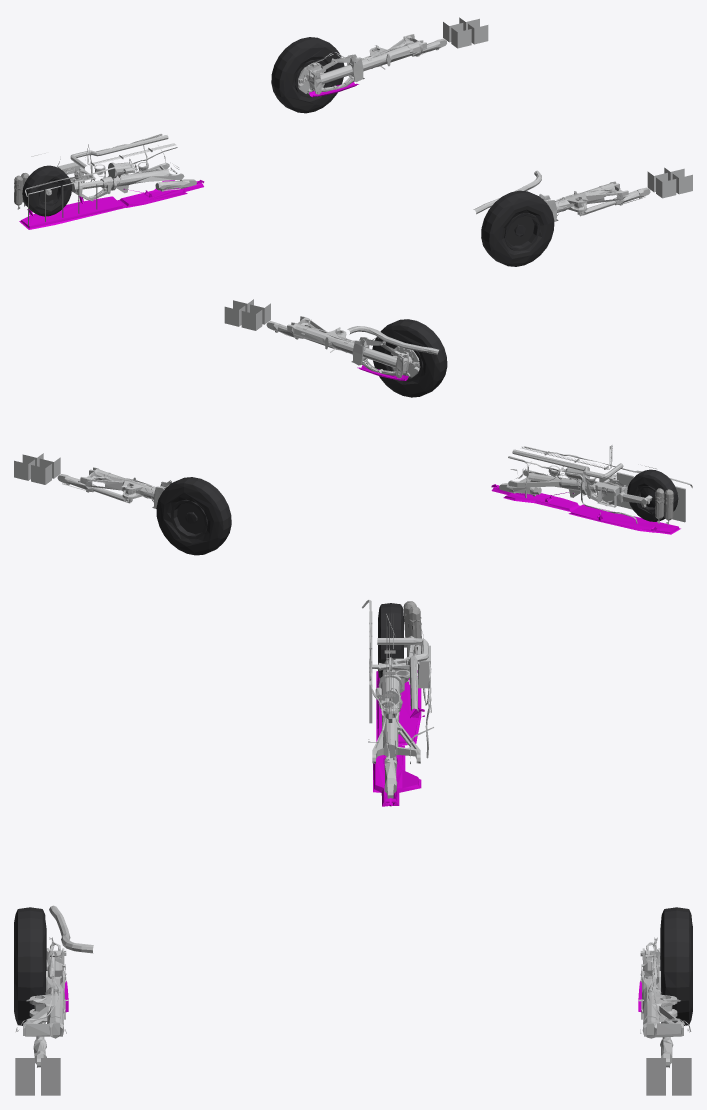
File: a10.gear.glb
The picture shows the model from 3 angles, top to bottom: view 1: azimuth 30°, elevation 25°; view 2: azimuth 150°, elevation 25°; view 3: azimuth 270°, elevation 25°; orthographic projection. The views are drawn at different scales.
Visible parts, largest first — view 1: gear; view 2: gear; view 3: gear.
Boxes of the visible parts, x1,y1,x2,y2 form: gear: (14,17,692,266); gear: (14,299,692,555); gear: (14,600,692,1095).
Size of the model in its own units: 8.16 by 1.58 by 5.62.
